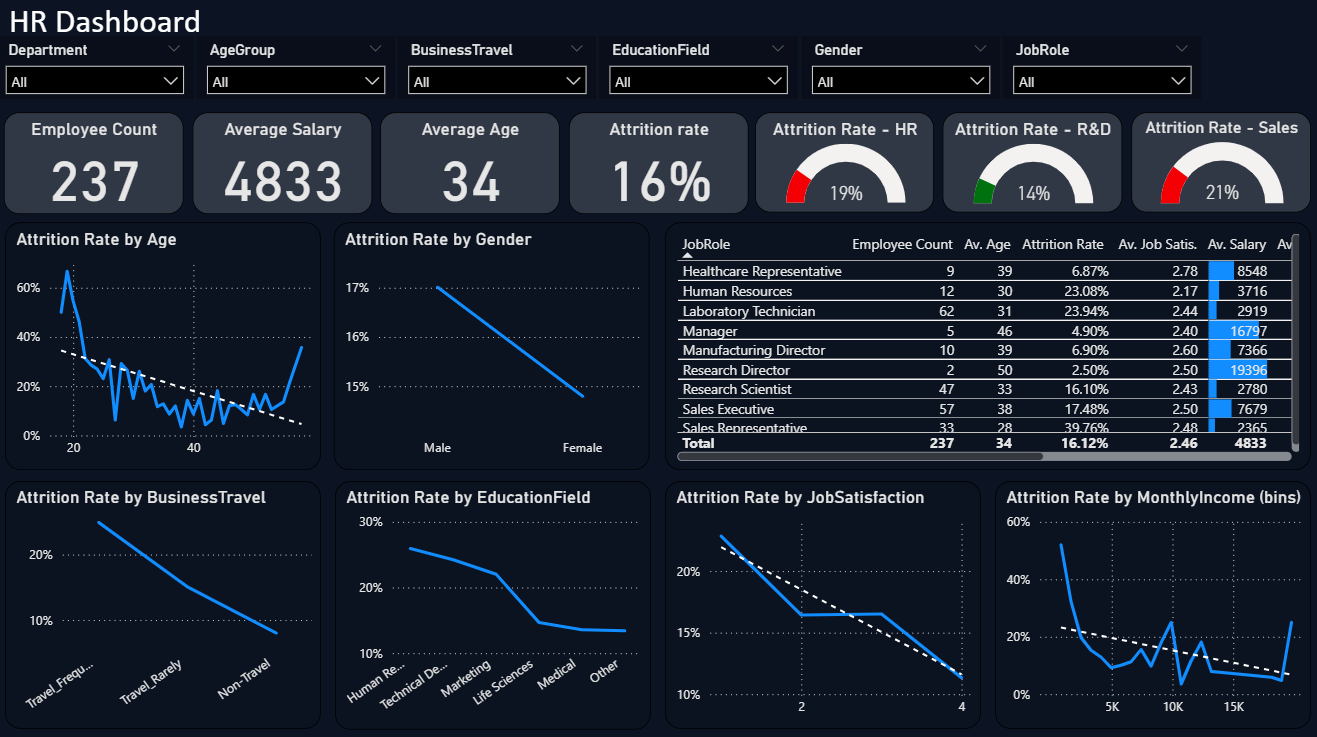

What the dashboard file says about the page in this screenshot:
{"tool":"powerbi","page":{"name":"Attrition","canvas":[1280,720],"ordinal":1},"visuals":[{"type":"slicer","fields":{"Values":["HR_Analytics.Department"]},"box":[0,39,192,60.7],"z":0},{"type":"card","title":"Employee Count","fields":{"Values":["HR_Analytics.Employee Count"]},"box":[8.7,112.7,173.4,98.2],"z":1000},{"type":"slicer","fields":{"Values":["HR_Analytics.AgeGroup"]},"box":[194.3,39,192.1,60.7],"z":2000},{"type":"slicer","fields":{"Values":["HR_Analytics.BusinessTravel"]},"box":[388.8,39,192.1,60.7],"z":3000},{"type":"slicer","fields":{"Values":["HR_Analytics.EducationField"]},"box":[583.3,39,192.1,60.7],"z":4000},{"type":"slicer","fields":{"Values":["HR_Analytics.Gender"]},"box":[777.8,39,192.1,60.7],"z":5000},{"type":"slicer","fields":{"Values":["HR_Analytics.JobRole"]},"box":[972.3,39,192.1,60.7],"z":6000},{"type":"card","title":"Average Age","fields":{"Values":["HR_Analytics.Average Age"]},"box":[371.8,112.7,173.4,98.2],"z":7000},{"type":"card","title":"Average Salary","fields":{"Values":["HR_Analytics.Average Salary"]},"box":[190.2,112.7,173.4,98.2],"z":8000},{"type":"card","title":"Attrition rate","fields":{"Values":["HR_Analytics.Attrition Rate "]},"box":[553.3,112.7,173.4,98.2],"z":9000},{"type":"tableEx","fields":{"Values":["HR_Analytics.JobRole","HR_Analytics.Employee Count","HR_Analytics.Average Age","HR_Analytics.Attrition Rate ","HR_Analytics.Average Job Satisfaction","HR_Analytics.Average Salary","HR_Analytics.Average Salary Hike","HR_Analytics.Gender Ratio","HR_Analytics.OverTime %","HR_Analytics.Average Years","HR_Analytics.Attrition Count"]},"box":[646.7,218.6,623.1,239.6],"z":10000},{"type":"gauge","title":"Attrition Rate - HR","fields":{"Y":["HR_Analytics.Attrition Rate "]},"box":[733.9,112.7,173,96.8],"z":11000},{"type":"gauge","title":"Attrition Rate - R&D","fields":{"Y":["HR_Analytics.Attrition Rate "]},"box":[915,112.6,173.2,96.9],"z":12000},{"type":"gauge","title":"Attrition Rate - Sales","fields":{"Y":["HR_Analytics.Attrition Rate "]},"box":[1096.9,112.6,173.2,96.9],"z":13000},{"type":"lineChart","fields":{"Y":["HR_Analytics.Attrition Rate "],"Category":["HR_Analytics.Age"]},"box":[9.2,218.6,305,239.6],"z":14000},{"type":"lineChart","fields":{"Y":["HR_Analytics.Attrition Rate "],"Category":["HR_Analytics.BusinessTravel"]},"box":[9.2,468.7,305,239.6],"z":15000},{"type":"lineChart","fields":{"Y":["HR_Analytics.Attrition Rate "],"Category":["HR_Analytics.EducationField"]},"box":[327.7,468.7,305,240],"z":16000},{"type":"lineChart","fields":{"Y":["HR_Analytics.Attrition Rate "],"Category":["HR_Analytics.Gender"]},"box":[327.3,218.6,305,239.6],"z":17000},{"type":"lineChart","fields":{"Y":["HR_Analytics.Attrition Rate "],"Category":["HR_Analytics.JobSatisfaction"]},"box":[646.2,468.7,305,239.6],"z":18000},{"type":"lineChart","fields":{"Y":["HR_Analytics.Attrition Rate "],"Category":["HR_Analytics.MonthlyIncome (bins)"]},"box":[964.8,468.7,305,239.6],"z":19000},{"type":"textbox","box":[8.4,0,363.1,68.8],"z":20000}]}

Visuals, with their boxes in screenshot pixels (x1, y1, x2, y2), scaled from the page's 1280x720 canvas onto the 1317x737 screenshot:
slicer - HR_Analytics.Department: region(0, 40, 198, 102)
"Employee Count" card: region(9, 115, 187, 216)
slicer - HR_Analytics.AgeGroup: region(200, 40, 398, 102)
slicer - HR_Analytics.BusinessTravel: region(400, 40, 598, 102)
slicer - HR_Analytics.EducationField: region(600, 40, 798, 102)
slicer - HR_Analytics.Gender: region(800, 40, 998, 102)
slicer - HR_Analytics.JobRole: region(1000, 40, 1198, 102)
"Average Age" card: region(383, 115, 561, 216)
"Average Salary" card: region(196, 115, 374, 216)
"Attrition rate" card: region(569, 115, 748, 216)
tableEx - HR_Analytics.JobRole x HR_Analytics.Employee Count: region(665, 224, 1307, 469)
"Attrition Rate - HR" gauge: region(755, 115, 933, 214)
"Attrition Rate - R&D" gauge: region(941, 115, 1120, 214)
"Attrition Rate - Sales" gauge: region(1129, 115, 1307, 214)
lineChart - HR_Analytics.Attrition Rate  x HR_Analytics.Age: region(9, 224, 323, 469)
lineChart - HR_Analytics.Attrition Rate  x HR_Analytics.BusinessTravel: region(9, 480, 323, 725)
lineChart - HR_Analytics.Attrition Rate  x HR_Analytics.EducationField: region(337, 480, 651, 725)
lineChart - HR_Analytics.Attrition Rate  x HR_Analytics.Gender: region(337, 224, 651, 469)
lineChart - HR_Analytics.Attrition Rate  x HR_Analytics.JobSatisfaction: region(665, 480, 979, 725)
lineChart - HR_Analytics.Attrition Rate  x HR_Analytics.MonthlyIncome (bins): region(993, 480, 1307, 725)
textbox: region(9, 0, 382, 70)
